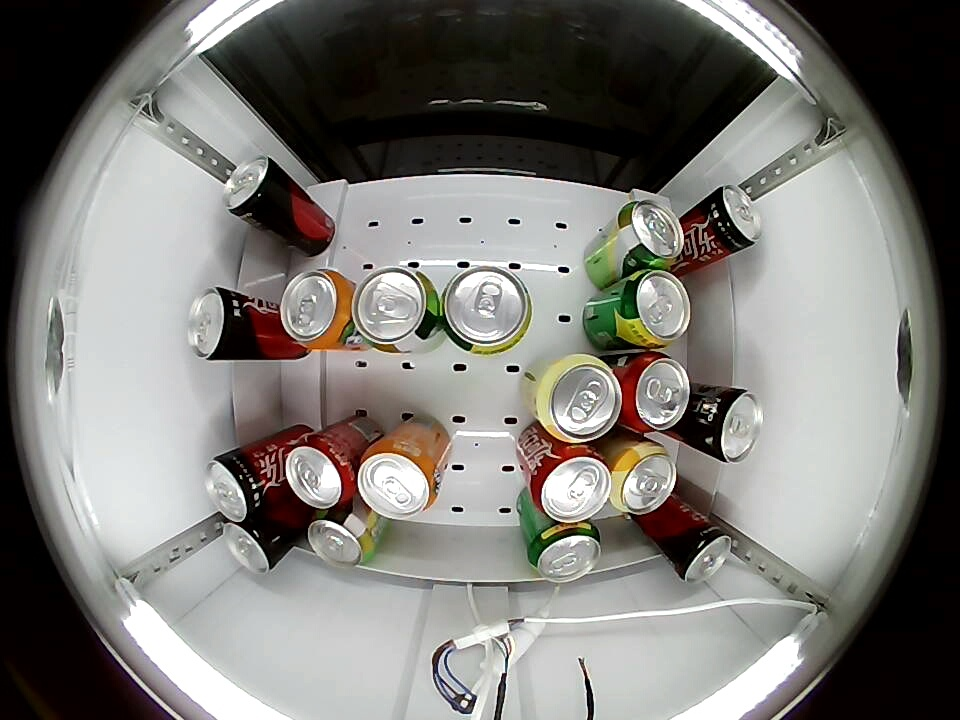fenda: (357, 439, 442, 519), (280, 268, 353, 351)
kele: (528, 446, 611, 523), (621, 353, 691, 433), (285, 434, 356, 510)
lingdukele: (696, 386, 764, 464), (187, 287, 253, 360), (203, 451, 269, 522), (701, 185, 764, 253), (222, 156, 287, 220), (672, 522, 734, 583), (223, 517, 287, 575)
mangguoxiaolao: (535, 354, 622, 443), (610, 441, 678, 516)
quchenshixiangcao: (352, 266, 441, 351), (616, 198, 685, 270), (307, 509, 376, 568)
xuebi2: (440, 265, 534, 356), (614, 270, 693, 349), (525, 521, 603, 583)
